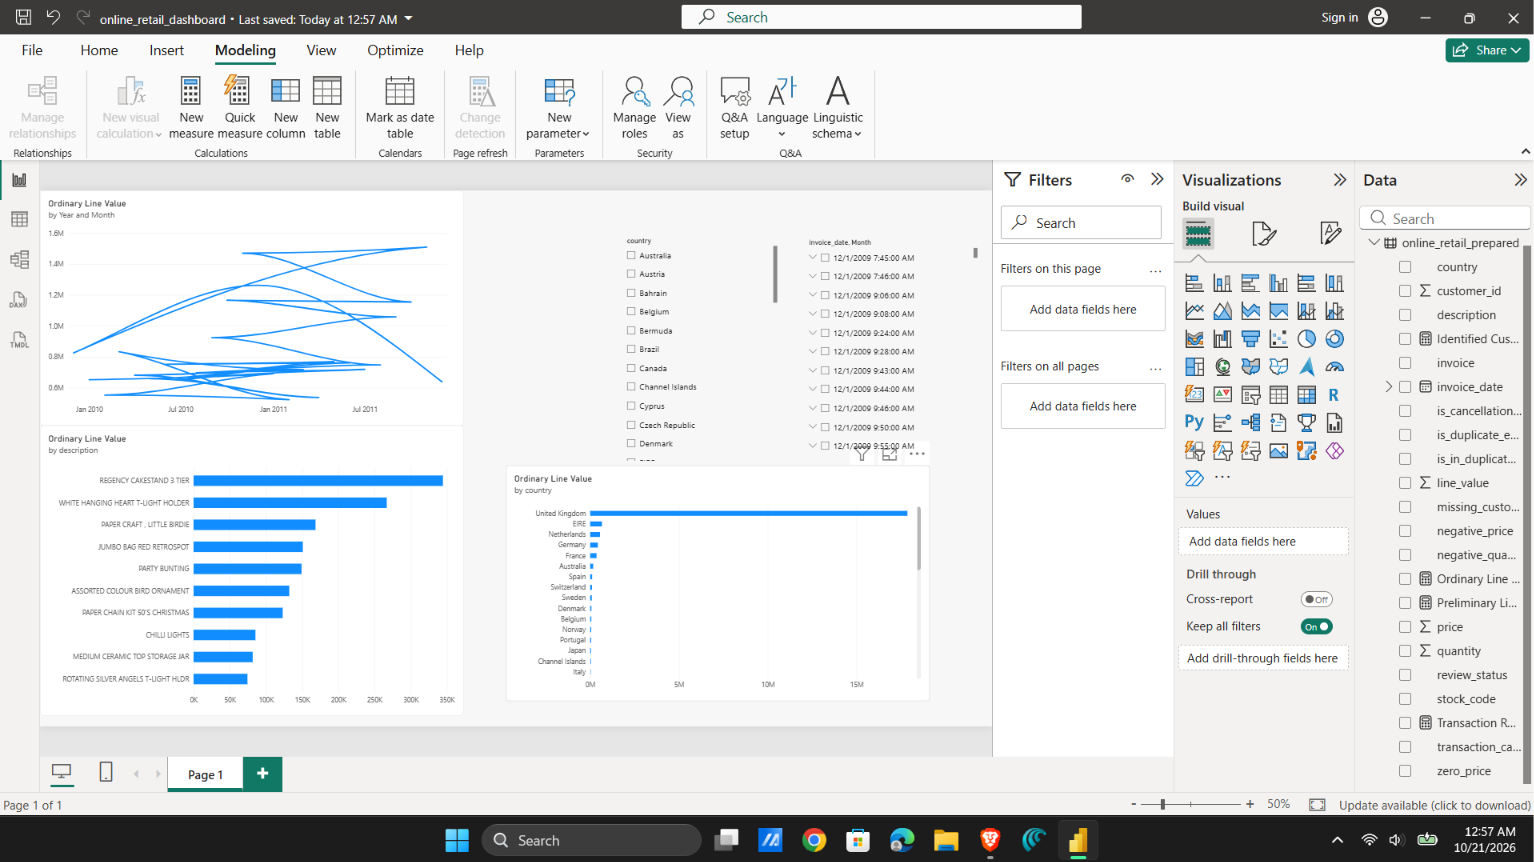

Layout of this report page (visuals, bound fields, positions):
{"tool":"powerbi","page":{"name":"Page 1","canvas":[1920,1080],"ordinal":0},"visuals":[{"type":"lineChart","fields":{"Category":["online_retail_prepared.invoice_date.Variation.Date Hierarchy.Year","online_retail_prepared.invoice_date.Variation.Date Hierarchy.Month"],"Y":["online_retail_prepared.Ordinary Line Value"]},"box":[0,0,854,474.7],"z":0},{"type":"clusteredBarChart","fields":{"Category":["online_retail_prepared.description"],"Y":["online_retail_prepared.Ordinary Line Value"]},"box":[0,474.7,854,585.2],"z":1},{"type":"clusteredBarChart","fields":{"Category":["online_retail_prepared.country"],"Y":["online_retail_prepared.Ordinary Line Value"]},"box":[940.7,555.7,854,475],"z":2},{"type":"slicer","fields":{"Values":["online_retail_prepared.invoice_date","online_retail_prepared.invoice_date.Variation.Date Hierarchy.Month"]},"box":[1543.7,96.7,347.9,442.5],"z":3},{"type":"slicer","fields":{"Values":["online_retail_prepared.country"]},"box":[1175.3,92.6,310.8,452.8],"z":4}]}

Visuals, with their boxes on the page's 1920x1080 design canvas (x1, y1, x2, y2). These are canvas units, not pixel positions in the 1534x862 screenshot, which may show the page scaled, cropped or inside an application window:
lineChart - online_retail_prepared.invoice_date.Variation.Date Hierarchy.Year x online_retail_prepared.invoice_date.Variation.Date Hierarchy.Month: bbox=[0, 0, 854, 475]
clusteredBarChart - online_retail_prepared.description x online_retail_prepared.Ordinary Line Value: bbox=[0, 475, 854, 1060]
clusteredBarChart - online_retail_prepared.country x online_retail_prepared.Ordinary Line Value: bbox=[941, 556, 1795, 1031]
slicer - online_retail_prepared.invoice_date x online_retail_prepared.invoice_date.Variation.Date Hierarchy.Month: bbox=[1544, 97, 1892, 539]
slicer - online_retail_prepared.country: bbox=[1175, 93, 1486, 545]
